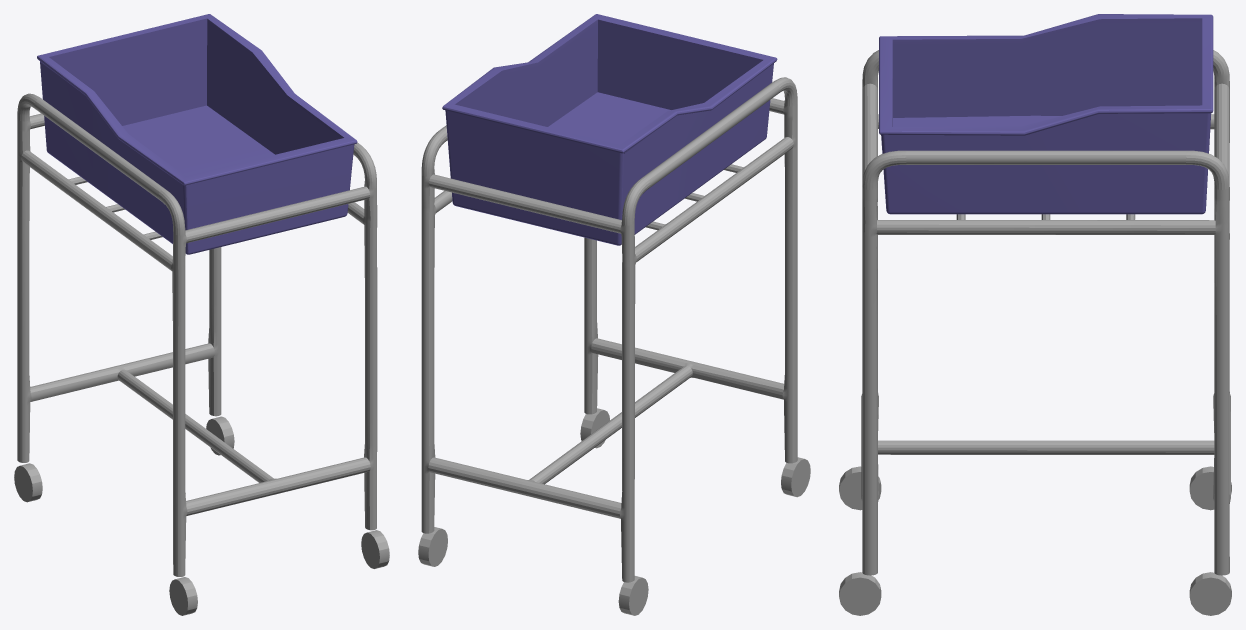
The model's file is Bassinet.fbx.
The picture shows the model from 3 angles, left to right: view 1: azimuth 30°, elevation 25°; view 2: azimuth 150°, elevation 25°; view 3: azimuth 270°, elevation 25°; orthographic projection. The views are drawn at different scales.
Parts seen in each view (by area): view 1: Bassinet; view 2: Bassinet; view 3: Bassinet.
Part boxes in pixels (<box>): Bassinet: <box>14,14,389,615</box>; Bassinet: <box>418,14,810,615</box>; Bassinet: <box>839,14,1231,615</box>.
Bounding box in the file's own units: 52.95 × 110 × 78.71.
